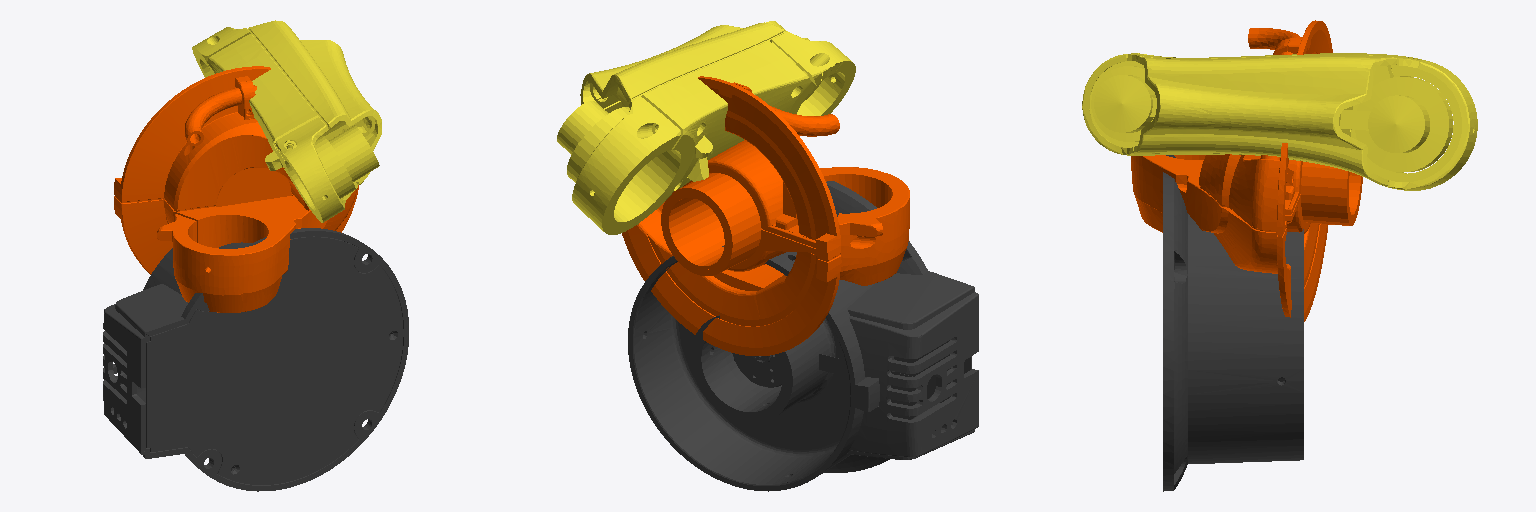
URDF robot description (youbot):
<?xml version="1.0" ?>
<!-- =================================================================================== -->
<!-- |    This document was autogenerated by xacro from youbot_description/robots/youbot_arm_only.urdf.xacro | -->
<!-- |    EDITING THIS FILE BY HAND IS NOT RECOMMENDED                                 | -->
<!-- =================================================================================== -->
<robot name="youbot" xmlns:controller="http://playerstage.sourceforge.net/gazebo/xmlschema/#controller" xmlns:interface="http://playerstage.sourceforge.net/gazebo/xmlschema/#interface" xmlns:sensor="http://playerstage.sourceforge.net/gazebo/xmlschema/#sensor" xmlns:xacro="http://ros.org/wiki/xacro">
  <!-- The following included files set up definitions of parts of the robot body -->
  <!-- misc common stuff? -->
  <!-- Casters -->
  <!-- materials for visualization -->
  <material name="youBot/Orange">
    <color rgba="1.0 0.4 0.0 1.0"/>
  </material>
  <material name="youBot/Grey">
    <color rgba="0.7 0.7 0.7 1.0"/>
  </material>
  <material name="youBot/DarkGrey">
    <color rgba="0.3 0.3 0.3 1.0"/>
  </material>
  <material name="youBot/White">
    <color rgba="1.0 1.0 1.0 1.0"/>
  </material>
  <material name="youBot/Black">
    <color rgba="0.0 0.0 0.0 1.0"/>
  </material>
  <material name="youBot/Red">
    <color rgba="1.0 0.0 0.0 1.0"/>
  </material>
  <material name="youBot/Green">
    <color rgba="0.0 1.0 0.0 1.0"/>
  </material>
  <material name="youBot/Blue">
    <color rgba="0.0 0.0 0.8 1.0"/>
  </material>
  <material name="youBot/LightGrey">
    <color rgba="0.82 0.82 0.82 1.0"/>
  </material>
  <!-- youbot arm -->
  <!-- reduction ratio doesn't affect the model-->
  <!-- reduction ratio must not to be 0-->
  &gt;

	
  <!-- common properties -->
  <!-- arm limits positions (deg) -->
  <!-- dynamic properties : mass (kg) Alu data sheet -->
  <!--<property name="link_0_mass" value="0.845" />
	<property name="link_1_mass" value="0.1" />
	<property name="link_2_mass" value="0.1" />
	<property name="link_3_mass" value="0.1" />
	<property name="link_4_mass" value="0.1" />
	<property name="link_5_mass" value="0.1" />-->
  <!-- TODO: add inertia tensor-->
  <!-- youbot arm -->
  <!-- common properties -->
  <!-- fingers limits, values are in meters -->
  <!-- controller manager -->
  <gazebo>
    <plugin filename="libgazebo_ros_control.so" name="gazebo_ros_controller"/>
  </gazebo>
  <!-- Now we can start using the macros included above to define the actual youbot -->
  <!-- The first use of a macro.  This one was defined in base.urdf.xacro above.
       A macro like this will expand to a set of link and joint definitions, and to additional
       Gazebo-related extensions (sensor plugins, etc).  The macro takes an argument, name, 
       that equals "base", and uses it to generate names for its component links and joints 
       (e.g., base_link).  The included origin block is also an argument to the macro.  By convention, 
       the origin block defines where the component is w.r.t its parent (in this case the parent 
       is the world frame). For more, see http://www.ros.org/wiki/xacro -->
  <!-- foot for arm-->
  <link name="base_link">
   <!--<inertial>
      <origin rpy="0 0 0" xyz="0 0 0"/>
      <mass value="10.0"/>
      <inertia ixx="0.1" ixy="0" ixz="0" iyy="0.1" iyz="0" izz="0.1"/>
    </inertial>-->
  </link>

  <!-- joint between base_link and arm_0_link -->
  <joint name="arm_joint_0" type="fixed">
    <origin rpy="0 0 0" xyz="0 0 0"/>
    <parent link="base_link"/>
    <child link="arm_link_0"/>
  </joint>
  <link name="arm_link_0">
    <inertial>
      <!--<origin xyz="0.023 0 0.006" rpy="0 0 0"/>-->
      <origin rpy="0 0 0" xyz="0 0 0"/>
      <mass value="0.961"/>
      <inertia ixx="0.01" ixy="0" ixz="0" iyy="0.01" iyz="0" izz="0.01"/>
    </inertial>
    <visual>
      <origin rpy="0 0 0" xyz="0 0 0"/>
      <geometry>
        <mesh filename="package://youbot_description/meshes/youbot_arm/arm0.stl"/>
      </geometry>
      <material name="youBot/DarkGrey"/>
    </visual>
    <collision>
      <!--<origin xyz="0.023 0 0.006" rpy="0 0 0"/>-->
      <origin rpy="0 0 0" xyz="0 0 0"/>
      <geometry>
        <mesh filename="package://youbot_description/meshes/youbot_arm/arm0_convex.stl"/>
        <!--<cylinder length="0.078" radius="0.093"/>-->
      </geometry>
    </collision>
  </link>
  <!-- joint between arm_0_link and arm_1_link -->
  <joint name="arm_joint_1" type="revolute">
    <origin rpy="0 0 2.96705972839" xyz="0.024 0 0.096"/>
    <parent link="arm_link_0"/>
    <child link="arm_link_1"/>
    <axis xyz="0 0 -1"/>
    <!--<calibration rising="${arm_1_ref}" falling="${arm_1_ref}"/>-->
    <dynamics damping="1" friction="1"/>
    <!-- damping - N*s/m, N*s*m/rad -->
    <!-- friction - N, N*m -->
    <limit effort="9.5" lower="0" upper="5.89921287174" velocity="1.57079632679"/>
    <!--effort - N, N*m-->
    <!--velocity - m/s, rad/s-->
    <!--safety_controller k_position="20" k_velocity="${9.5/M_PI / 2.0}" soft_lower_limit="${threshold}" soft_upper_limit="${joint_1_limit_soft}" /-->
    <!--k_position N/m, N/rad-->
    <!--k_velocity N*s/m, N*s*m/rad-->
    <!--for details: http://www.ros.org/wiki/pr2_controller_manager/safety_limits-->
  </joint>
  <link name="arm_link_1">
    <inertial>
      <mass value="1.39"/>
      <origin rpy="0 0 0" xyz="0.01489 0.00213 0.00213"/>
      <inertia ixx="0.0029525" ixy="0.0" ixz="0.0" iyy="0.0060091" iyz="0.0" izz="0.0058821"/>
    </inertial>
    <visual>
      <origin rpy="0 0 0" xyz="0 0 0"/>
      <geometry>
        <mesh filename="package://youbot_description/meshes/youbot_arm/arm1.stl"/>
      </geometry>
      <material name="youBot/Orange"/>
    </visual>
    <collision>
      <!--<origin xyz="0 0 -0.003" rpy="0 0 0" />-->
      <origin rpy="0 0 0" xyz="0 0 0"/>
      <geometry>
        <mesh filename="package://youbot_description/meshes/youbot_arm/arm1_convex.stl"/>
        <!--<cylinder length="0.102" radius="0.080"/>-->
      </geometry>
    </collision>
  </link>
  <!-- joint between arm_1_link and arm_2_link -->
  <joint name="arm_joint_2" type="revolute">
    <origin rpy="0 -1.1344640138 0" xyz="0.033 0 0.019"/>
    <parent link="arm_link_1"/>
    <child link="arm_link_2"/>
    <axis xyz="0 1 0"/>
    <!--<calibration rising="${arm_2_ref}" falling="${arm_2_ref}"/>-->
    <dynamics damping="1" friction="1"/>
    <limit effort="9.5" lower="0" upper="2.70526034059" velocity="1.57079632679"/>
    <!--safety_controller k_position="20" k_velocity="${2*9.5/M_PI}" soft_lower_limit="${threshold}" soft_upper_limit="${joint_2_limit_soft}" /-->
  </joint>
  <link name="arm_link_2">
    <inertial>
      <mass value="1.318"/>
      <origin rpy="0 0 0" xyz="0.01053 -0.0307 0.08597"/>
      <inertia ixx="0.0031145" ixy="0.0" ixz="0.0" iyy="0.0005843" iyz="0.0" izz="0.0031631"/>
    </inertial>
    <visual>
      <origin rpy="0 0 0" xyz="0 -0.032 0.078"/>
      <geometry>
        <mesh filename="package://youbot_description/meshes/youbot_arm/arm2.stl"/>
      </geometry>
    </visual>
    <collision>
      <!--<origin xyz="0.001 -0.041 0.074" rpy="0 0 0" />-->
      <origin rpy="0 0 0" xyz="0 -0.032 0.078"/>
      <geometry>
        <mesh filename="package://youbot_description/meshes/youbot_arm/arm2_convex.stl"/>
        <!--<box size="0.074 0.082 0.222"/>-->
      </geometry>
    </collision>
  </link>

  <!-- extensions -->
  <gazebo reference="arm_link_0">
    <turnGravityOff>false</turnGravityOff>
  </gazebo>
  <gazebo reference="arm_link_1">
    <turnGravityOff>false</turnGravityOff>
  </gazebo>
  <gazebo reference="arm_link_2">
    <turnGravityOff>false</turnGravityOff>
  </gazebo> 

  <transmission name="arm_trans_1">
    <type>transmission_interface/SimpleTransmission</type>
    <actuator name="arm_motor_1">
      <hardwareInterface>EffortJointInterface</hardwareInterface>
      <mechanicalReduction>1</mechanicalReduction>
    </actuator>
    <joint name="arm_joint_1">
      <hardwareInterface>EffortJointInterface</hardwareInterface>
    </joint>
  </transmission>
  <transmission name="arm_trans_2">
    <type>transmission_interface/SimpleTransmission</type>
    <actuator name="arm_motor_2">
      <hardwareInterface>EffortJointInterface</hardwareInterface>
      <mechanicalReduction>1</mechanicalReduction>
    </actuator>
    <joint name="arm_joint_2">
      <hardwareInterface>EffortJointInterface</hardwareInterface>
    </joint>
  </transmission>
  
</robot>

--- What the picture shows (computed from the rendered views, not written in the file) ---
The picture shows the robot from 3 angles, left to right: view 1: azimuth 30°, elevation 25°; view 2: azimuth 150°, elevation 25°; view 3: azimuth 270°, elevation 25°; orthographic projection.
Model youbot with 4 links and 3 joints (2 revolute, 1 fixed), rooted at base_link, posed all joints at 0.
Visible links, largest first — view 1: arm_link_0, arm_link_1, arm_link_2; view 2: arm_link_0, arm_link_1, arm_link_2; view 3: arm_link_2, arm_link_0, arm_link_1.
Boxes of the visible links, <box> form: arm_link_0: <box>103,228,408,491</box>; arm_link_1: <box>114,66,358,312</box>; arm_link_2: <box>192,20,381,222</box>; arm_link_0: <box>628,181,978,491</box>; arm_link_1: <box>622,76,909,355</box>; arm_link_2: <box>557,21,855,234</box>; arm_link_2: <box>1082,53,1477,190</box>; arm_link_0: <box>1163,155,1303,491</box>; arm_link_1: <box>1131,20,1362,321</box>.
Bounding box of the posed robot: 0.21 × 0.219 × 0.2819 m (x, y, z).
3 mesh visuals loaded from 3 distinct referenced files (3 binary STL).